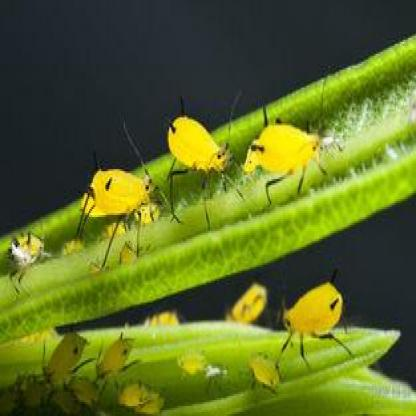aphid: (75, 134, 160, 264), (162, 97, 247, 218), (247, 97, 337, 206), (278, 272, 344, 365), (38, 321, 90, 380), (5, 226, 46, 288), (114, 370, 168, 412), (224, 282, 272, 327), (62, 362, 103, 410), (95, 328, 132, 380), (0, 366, 38, 416), (245, 350, 284, 394), (172, 344, 214, 384), (49, 376, 84, 416), (21, 363, 51, 408), (140, 310, 182, 330)
